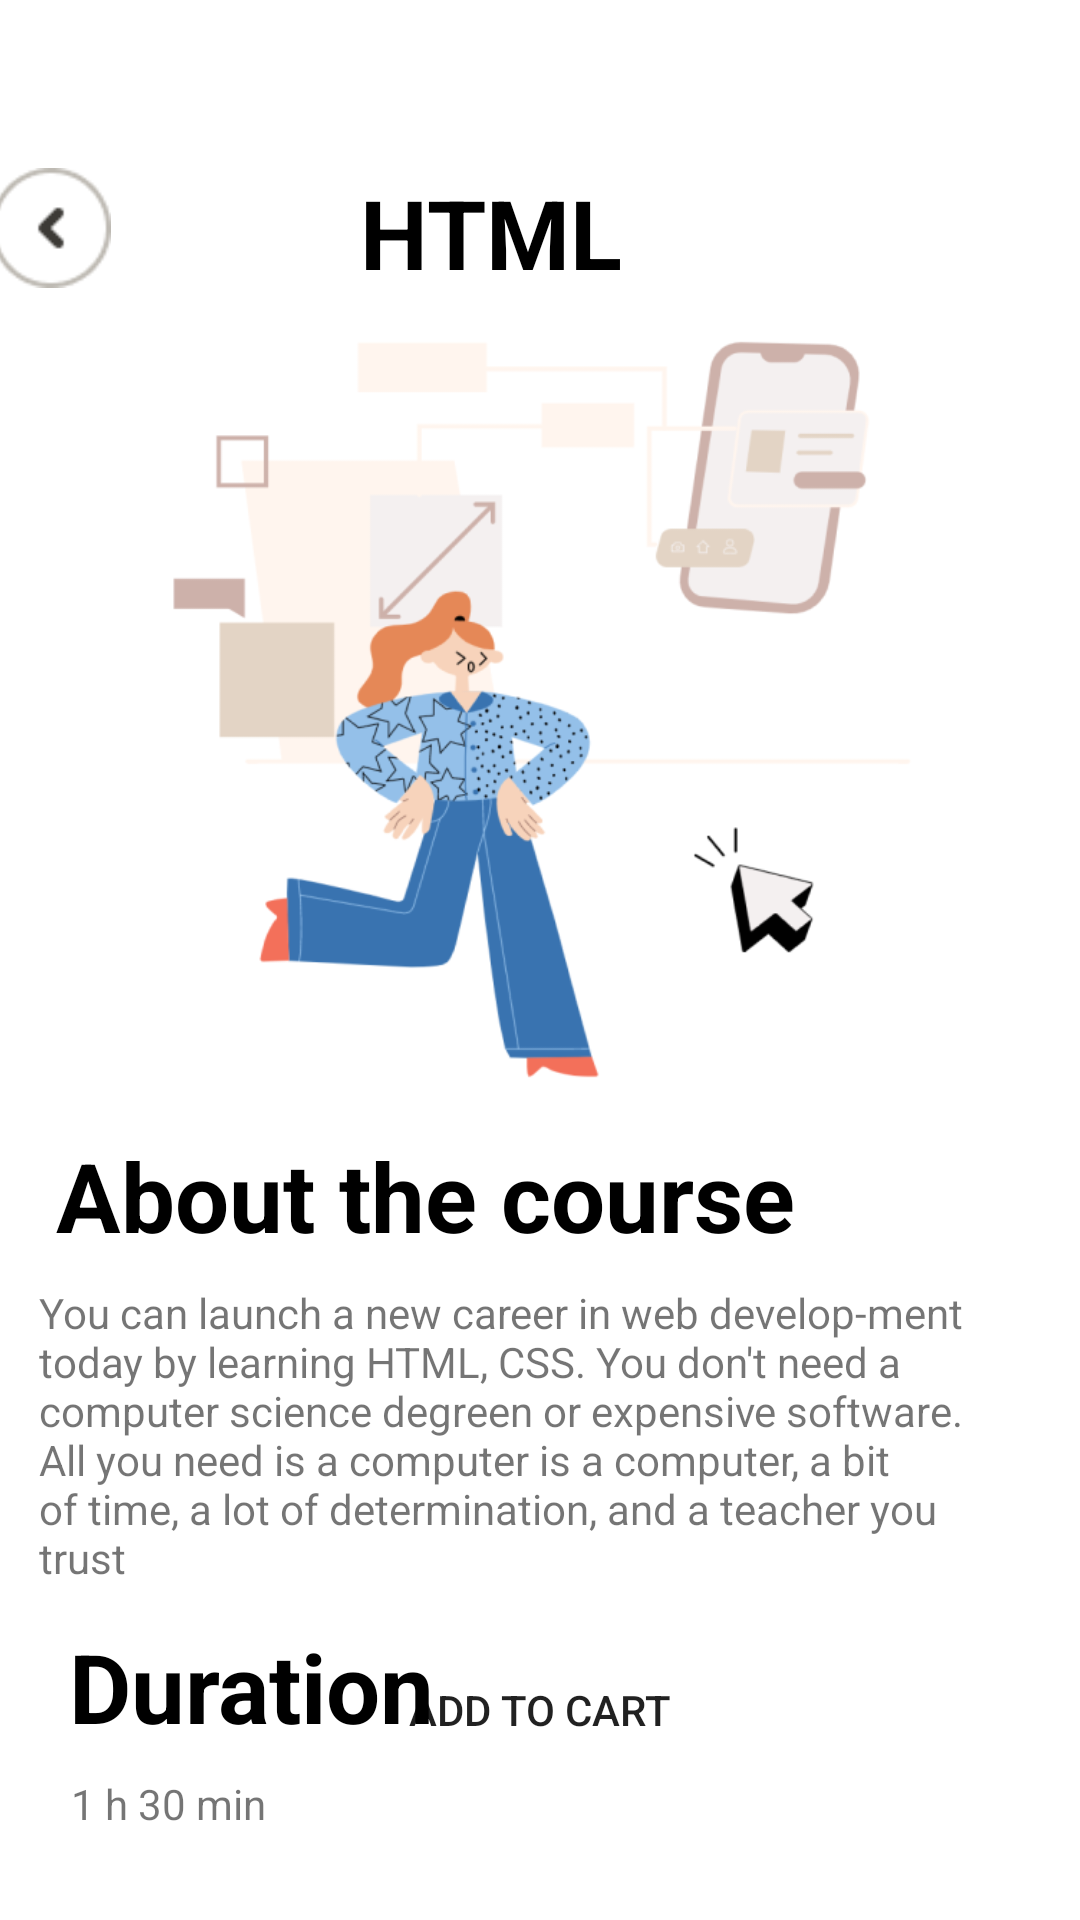

Icon bounding boxes for this 1080px x 1920px phone screenshot, format (x1=x1, y1=y1, x2=x2, y2=y2):
back: (x1=0, y1=168, x2=111, y2=288)
